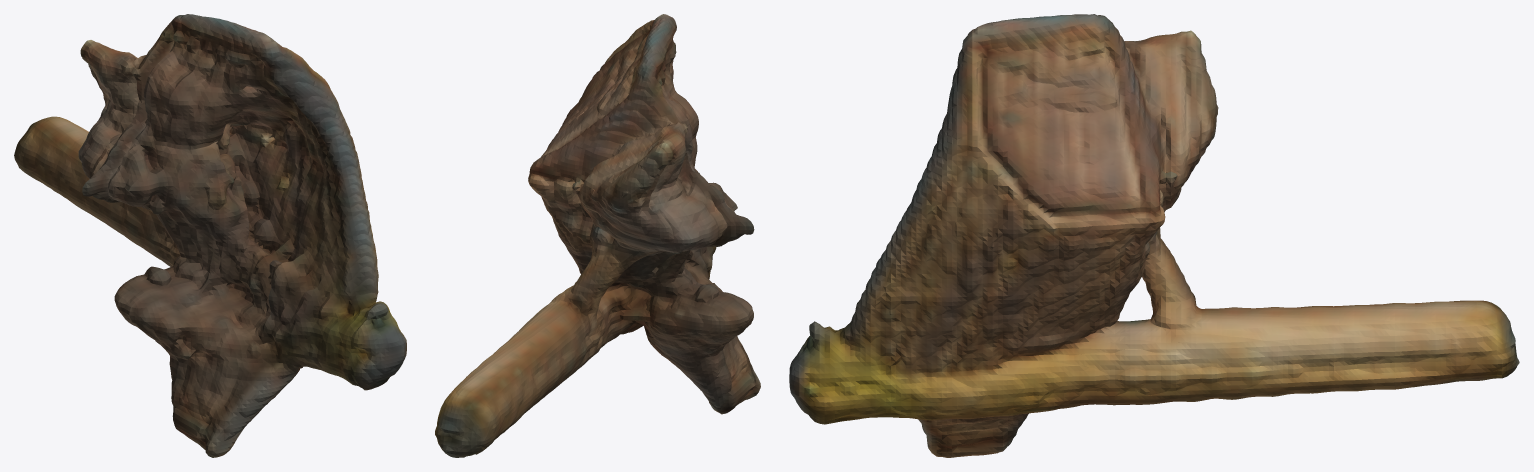
The picture shows the model from 3 angles, left to right: view 1: azimuth 30°, elevation 25°; view 2: azimuth 150°, elevation 25°; view 3: azimuth 270°, elevation 25°; orthographic projection. The views are drawn at different scales.
Size of the model in its own units: 0.401 by 0.6914 by 0.9786.
